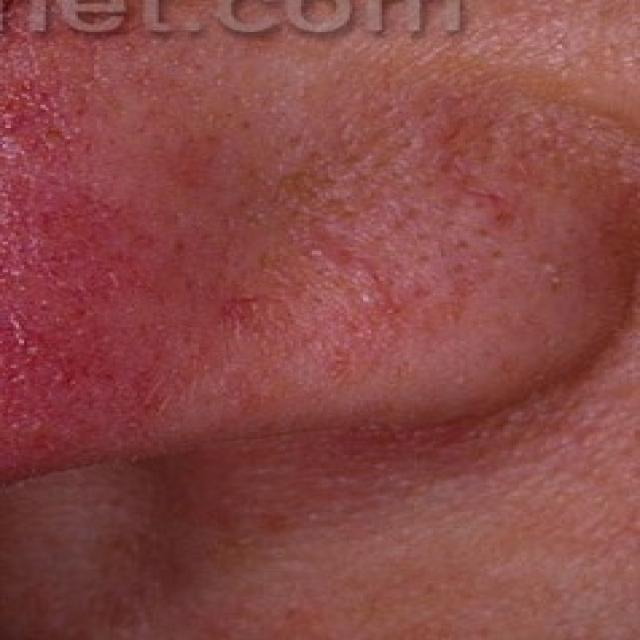Rosacea: (0, 48, 200, 479)
